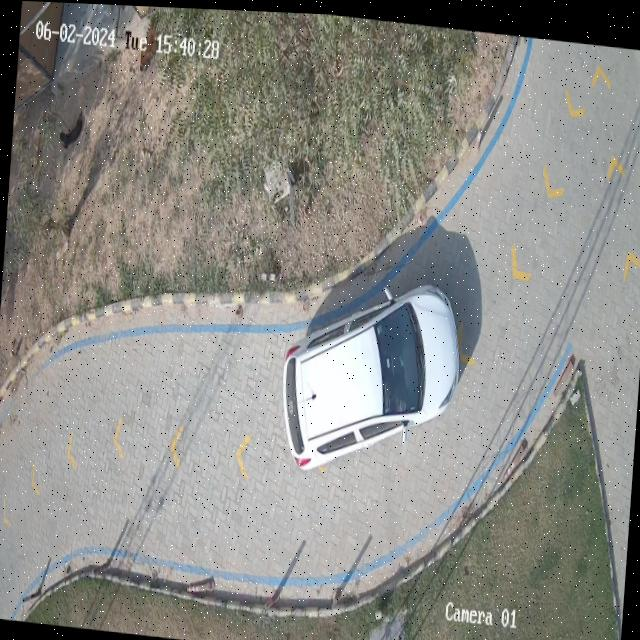car: (282, 283, 458, 463)
